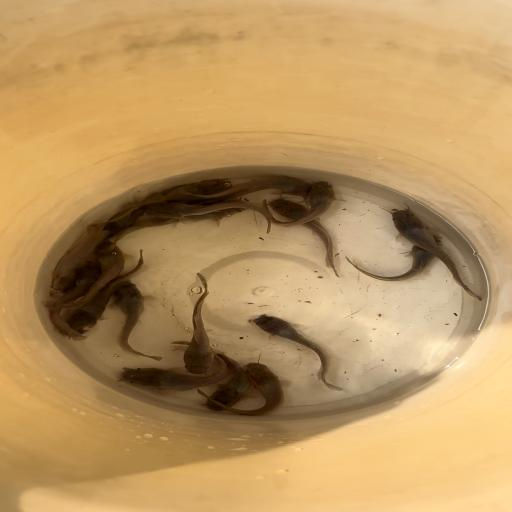lele: (379, 205, 484, 302), (60, 249, 146, 340), (249, 312, 345, 392), (270, 196, 345, 278), (105, 176, 234, 222), (42, 242, 122, 314), (173, 338, 250, 412), (110, 202, 247, 242), (196, 359, 288, 417), (42, 258, 104, 342), (346, 233, 446, 283), (120, 346, 225, 392), (144, 200, 276, 233), (112, 279, 164, 362), (50, 224, 107, 290), (180, 272, 216, 376), (261, 180, 336, 226), (180, 175, 316, 198)
